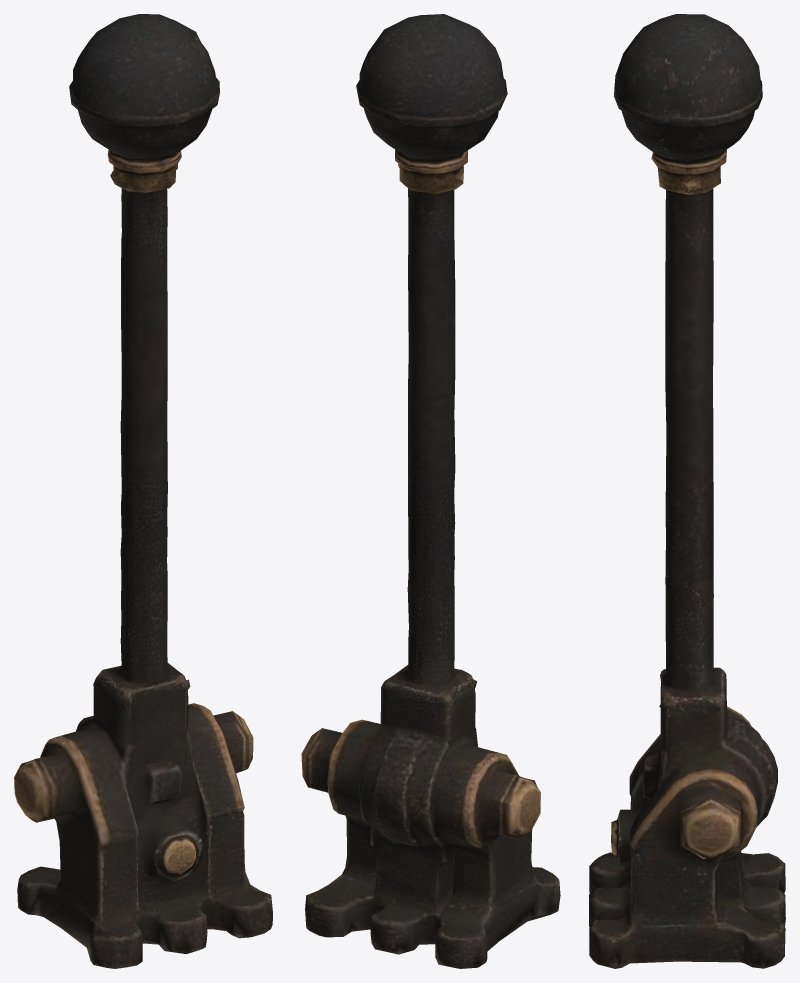
Rendered from handle.glb.
3 views of the same model, side by side, from view 1: azimuth 30°, elevation 25°; view 2: azimuth 150°, elevation 25°; view 3: azimuth 270°, elevation 25° (orthographic).
Visible parts, largest first — view 1: handle; view 2: handle; view 3: handle.
Part boxes in pixels (x1,y1,x2,y2): handle: (14, 14, 272, 968); handle: (301, 14, 560, 968); handle: (589, 14, 785, 968).
Size of the model in its own units: 0.1659 by 0.65 by 0.128.
Materials: 1 (1 with a texture image).
